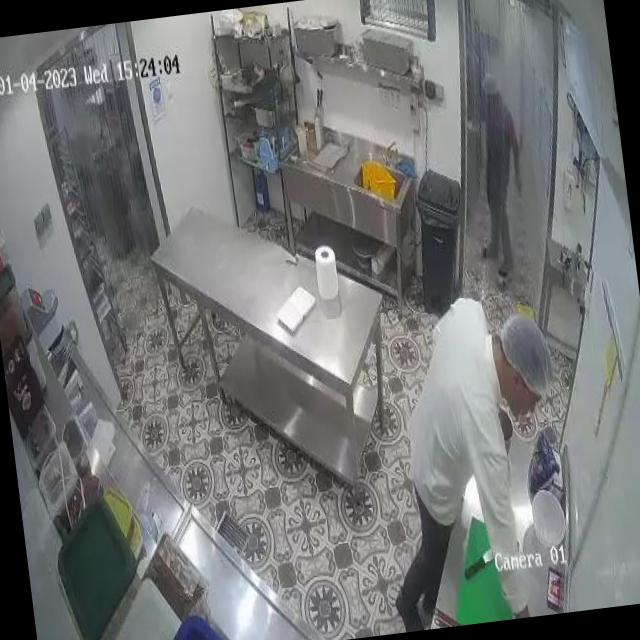hairnet: (496, 310, 553, 395), (480, 70, 503, 97)
